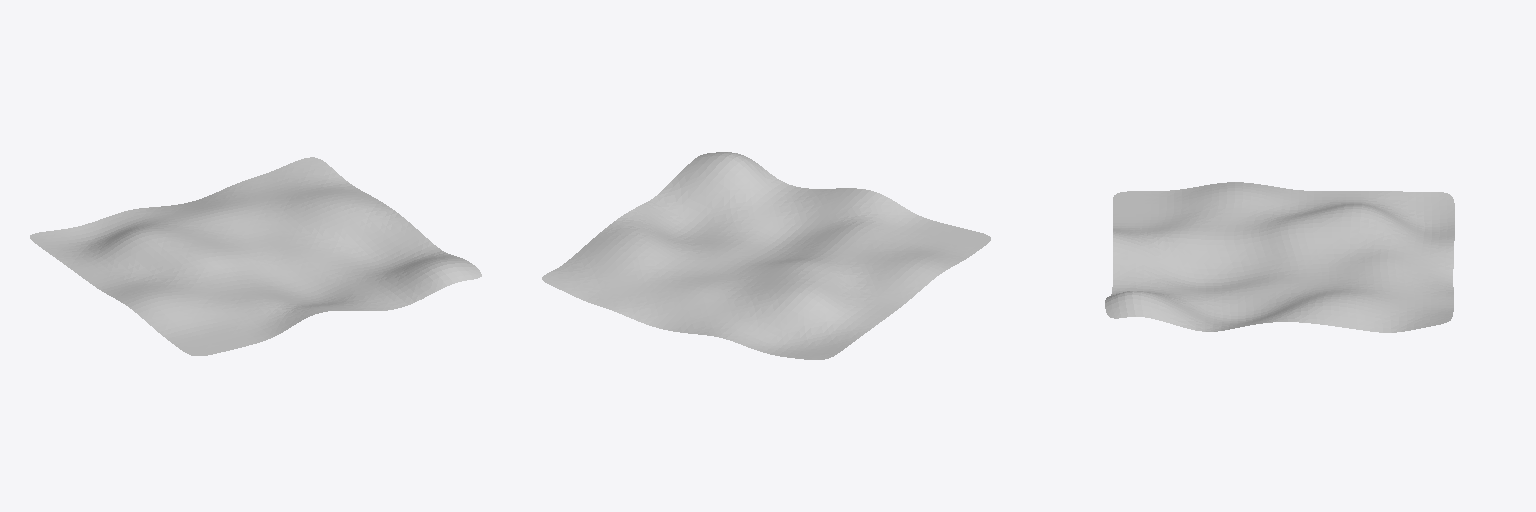
Rendered from map2.obj.
3 renders of one model, left to right at view 1: azimuth 30°, elevation 25°; view 2: azimuth 150°, elevation 25°; view 3: azimuth 270°, elevation 25°, orthographic.
Parts seen in each view (by area): view 1: Mesh_Plane; view 2: Mesh_Plane; view 3: Mesh_Plane.
Part boxes in pixels (x1,y1,x2,y2): Mesh_Plane: (30,157,481,355); Mesh_Plane: (542,152,990,359); Mesh_Plane: (1105,182,1454,332).
Bounding box in the file's own units: 149 × 16.37 × 151.